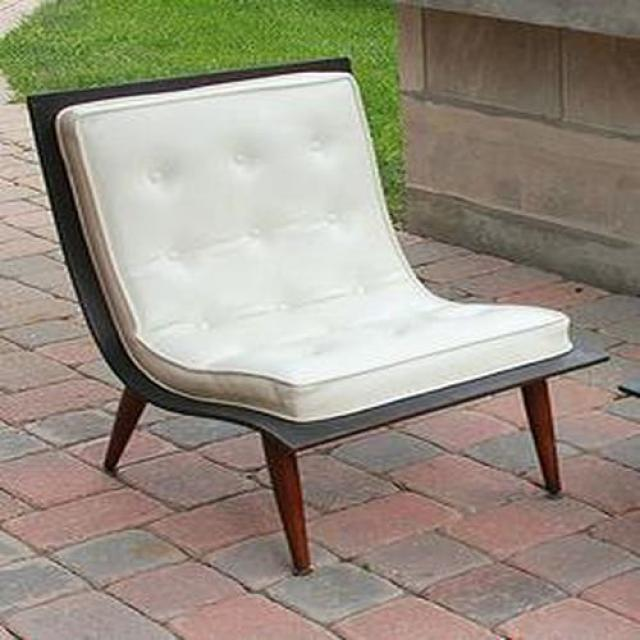chair: (27, 58, 604, 577)
